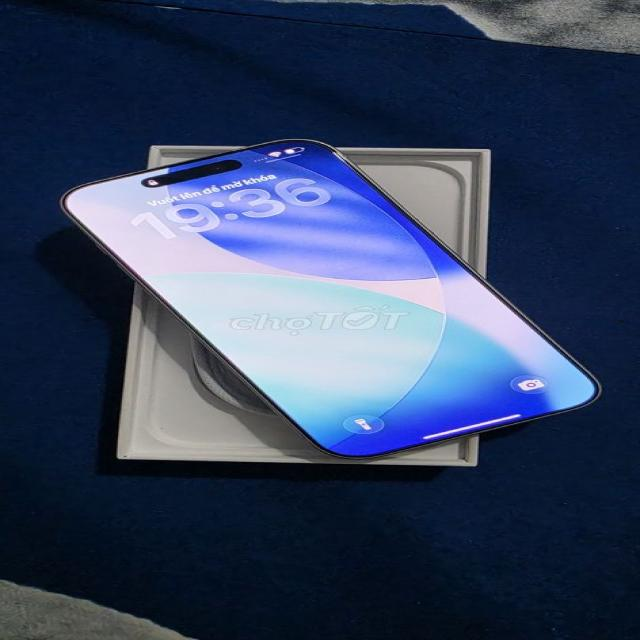gen_17: (61, 141, 612, 462)
